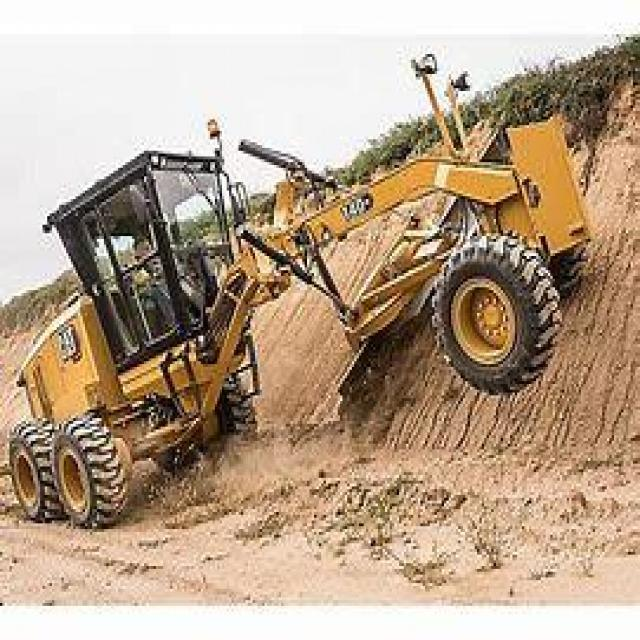Grader: (5, 102, 592, 529)
